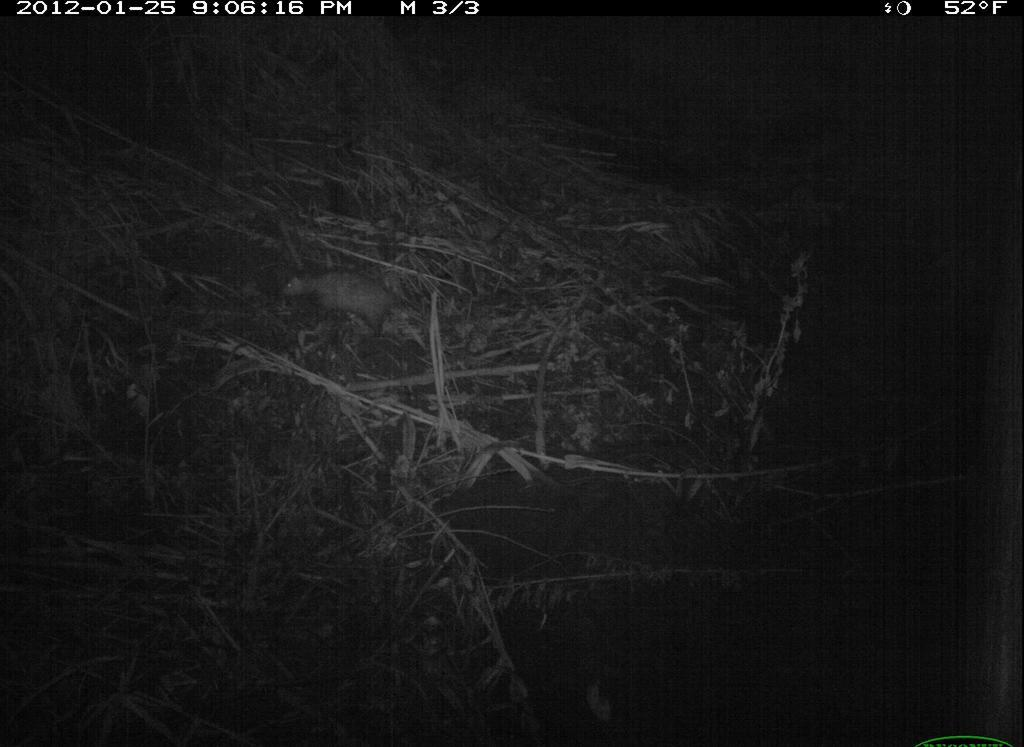opossum: (272, 258, 449, 349)
